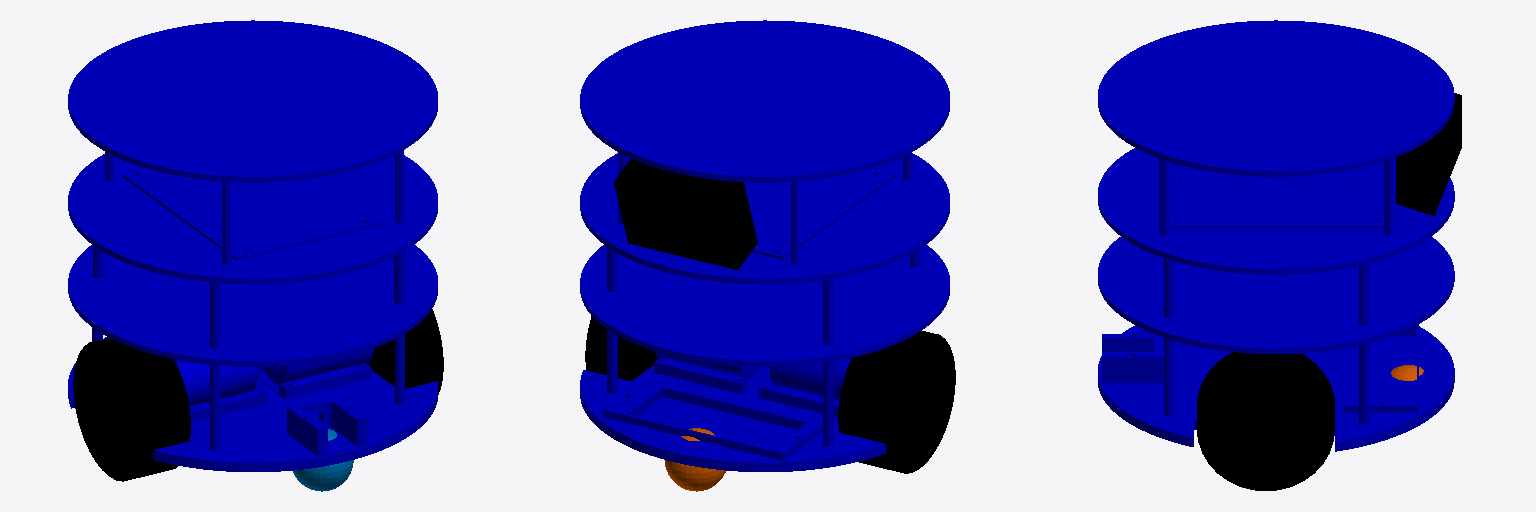
URDF robot description (c_ros_bot):
<?xml version="1.0"?>
<robot name="c_ros_bot">

  <material name="blue"><color rgba="0 0 0.8 1"/></material>
  <material name="black"><color rgba="0 0 0 1"/></material>

  <link name="base_footprint"/>

  <link name="base_link">
    <visual>
      <origin xyz="0 0 0" rpy="0 0 0"/>
      <geometry>
        <mesh filename="package://c_ros_sim/meshes/Futbot3.0.stl" scale="0.001 0.001 0.001"/>
      </geometry>
      <material name="blue"/>
    </visual>
    <collision>
      <origin xyz="0 0 0" rpy="0 0 0"/>
      <geometry>
        <box size="0.25 0.15 0.05"/>
      </geometry>
    </collision>
    <inertial>
      <mass value="1.0"/>
      <inertia ixx="0.002" ixy="0" ixz="0" iyy="0.005" iyz="0" izz="0.006"/>
    </inertial>
  </link>

  <joint name="base_joint" type="fixed">
    <parent link="base_footprint"/>
    <child link="base_link"/>
    <origin xyz="0 0 0" rpy="0 0 0"/>
  </joint>

  <link name="left_wheel">
    <visual>
      <origin xyz="0 0 0" rpy="1.5708 0 0"/>
      <geometry>
        <cylinder radius="0.034" length="0.025"/>
      </geometry>
      <material name="black"/>
    </visual>
    <collision>
      <origin xyz="-0.005 0.03 0" rpy="1.5708 0 0"/>
      <geometry>
        <cylinder radius="0.034" length="0.025"/>
      </geometry>
    </collision>
    <inertial>
      <mass value="0.1"/>
      <inertia ixx="0.00003" ixy="0" ixz="0" iyy="0.00003" iyz="0" izz="0.00005"/>
    </inertial>
  </link>

  <joint name="left_wheel_joint" type="continuous">
    <parent link="base_link"/>
    <child link="left_wheel"/>
    <origin xyz="0.069 -0.005 0.012" rpy="0 0 1.5708"/>
    <axis xyz="0 1 0"/>
  </joint>

  <link name="right_wheel">
    <visual>
      <origin xyz="0 0 0" rpy="1.5708 0 0"/>
      <geometry>
        <cylinder radius="0.034" length="0.025"/>
      </geometry>
      <material name="black"/>
    </visual>
    <collision>
      <origin xyz="-0.005 -0.03 0" rpy="1.5708 0 0"/>
      <geometry>
        <cylinder radius="0.034" length="0.025"/>
      </geometry>
    </collision>
    <inertial>
      <mass value="0.1"/>
      <inertia ixx="0.00003" ixy="0" ixz="0" iyy="0.00003" iyz="0" izz="0.00005"/>
    </inertial>
  </link>

  <joint name="right_wheel_joint" type="continuous">
    <parent link="base_link"/>
    <child link="right_wheel"/>
    <origin xyz="-0.069 -0.005 0.012" rpy="0 0 1.5708"/>
    <axis xyz="0 1 0"/>
  </joint>

  <link name="caster_wheel">
    <visual>
      <origin xyz="0 0 0" rpy="0 0 0"/>
      <geometry>
        <sphere radius="0.015"/>
      </geometry>
    </visual>
    <collision><geometry><sphere radius="0.015"/></geometry></collision>
    <inertial><mass value="0.05"/><inertia ixx="0.00001" ixy="0" ixz="0" iyy="0.00001" iyz="0" izz="0.00001"/></inertial>
  </link>
  <joint name="caster_wheel_joint" type="fixed">
    <parent link="base_link"/>
    <child link="caster_wheel"/>
    <origin xyz="0 -0.065 -0.008" rpy="0 0 0"/>
  </joint>

  <link name="caster_wheel2">
    <visual>
      <origin xyz="0 0 0" rpy="0 0 0"/>
      <geometry>
        <sphere radius="0.015"/>
      </geometry>
    </visual>
    <collision><geometry><sphere radius="0.015"/></geometry></collision>
    <inertial><mass value="0.05"/><inertia ixx="0.00001" ixy="0" ixz="0" iyy="0.00001" iyz="0" izz="0.00001"/></inertial>
  </link>
  <joint name="caster_wheel2_joint" type="fixed">
    <parent link="base_link"/>
    <child link="caster_wheel2"/>
    <origin xyz="0 0.065 -0.008" rpy="0 0 0"/>
  </joint>

  <link name="camera_link">
    <visual>
      <origin xyz="0 0 0" rpy="0 0 0"/> 
      <geometry>
        <box size="0.02 0.06 0.04"/> 
      </geometry>
      <material name="black"/>
    </visual>
    <inertial>
      <mass value="0.01"/> <inertia ixx="0.00001" ixy="0" ixz="0" iyy="0.00001" iyz="0" izz="0.00001"/>
    </inertial>
  </link>

  <joint name="camera_joint" type="fixed">
    <parent link="base_link"/>
    <child link="camera_link"/>
    <origin xyz="0 0.075 0.125" rpy="0 0.3490 1.5708"/>
  </joint>

  <gazebo reference="camera_link"> 
    <sensor type="camera" name="futbot_camera">
      <pose>0 0 0 0 0 0</pose> 
      <always_on>true</always_on>
      <visualize>true</visualize> 
      <update_rate>30.0</update_rate> 
      <topic>camera/image_raw</topic>
      <camera name="head">
        <horizontal_fov>1.1944</horizontal_fov> 
        <image>
          <width>640</width>
          <height>480</height>
          <format>R8G8B8</format>
        </image>
        <clip>
          <near>0.02</near>
          <far>10.0</far>
        </clip>

        <distortion>
          <k1>-0.421</k1> 
          <k2>0.185</k2> 
          <k3>0.0</k3> 
          <p1>0.0</p1> 
          <p2>0.0</p2> 
          <center>0.5303 0.3875</center>
        </distortion>
      </camera>
    </sensor>
  </gazebo>

  <gazebo reference="camera_link">
    <material>
      <ambient>0.1 0.1 0.1 1</ambient>
      <diffuse>0.1 0.1 0.1 1</diffuse>
    </material>
  </gazebo>
  
  <gazebo reference="left_wheel">
    <material>
      <ambient>0 0 0 1</ambient>
      <diffuse>0 0 0 1</diffuse>
    </material>
  </gazebo>
  
  <gazebo reference="right_wheel">
    <material>
      <ambient>0 0 0 1</ambient>
      <diffuse>0 0 0 1</diffuse>
    </material>
  </gazebo>

  <gazebo reference="caster_wheel">
    <mu>0.001</mu><mu2>0.001</mu2>
  </gazebo>
  <gazebo reference="caster_wheel2">
    <mu>0.001</mu><mu2>0.001</mu2>
  </gazebo>

  <gazebo>
    <plugin filename="gz-sim-diff-drive-system" name="gz::sim::systems::DiffDrive">
      <left_joint>left_wheel_joint</left_joint>
      <right_joint>right_wheel_joint</right_joint>
      <wheel_separation>0.20</wheel_separation>
      <wheel_radius>0.034</wheel_radius>
      <max_linear_velocity>0.88</max_linear_velocity>
      <max_angular_velocity>10.6</max_angular_velocity>
      <topic>cmd_vel</topic>
      <odom_topic>odom</odom_topic>
      <frame_id>odom</frame_id>
      <child_frame_id>base_footprint</child_frame_id>
    </plugin>
  </gazebo>
</robot>

--- Facts derived from the render (not from the file) ---
The picture shows the robot from 3 angles, left to right: view 1: azimuth 30°, elevation 25°; view 2: azimuth 150°, elevation 25°; view 3: azimuth 270°, elevation 25°; orthographic projection.
Robot: c_ros_bot — 7 links, 6 joints (2 continuous, 4 fixed); root link base_footprint; default pose: all joints at 0.
Links seen in each view (by area): view 1: base_link, right_wheel, left_wheel, caster_wheel; view 2: base_link, right_wheel, camera_link, left_wheel, caster_wheel2; view 3: base_link, left_wheel, camera_link.
Boxes of the visible links, <box> form: base_link: <box>68,20,437,471</box>; right_wheel: <box>73,338,190,481</box>; left_wheel: <box>367,309,443,394</box>; caster_wheel: <box>293,429,353,491</box>; base_link: <box>580,20,949,471</box>; right_wheel: <box>838,331,955,473</box>; camera_link: <box>614,159,757,269</box>; left_wheel: <box>585,316,659,380</box>; caster_wheel2: <box>665,428,725,491</box>; base_link: <box>1098,20,1454,451</box>; left_wheel: <box>1197,352,1334,490</box>; camera_link: <box>1396,93,1461,215</box>.
Bounding box of the posed robot: 0.175 × 0.1787 × 0.177 m (x, y, z).
1 mesh visuals loaded from 1 distinct referenced files (1 binary STL).
